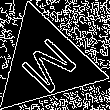M_SE: (11, 29, 81, 97)
